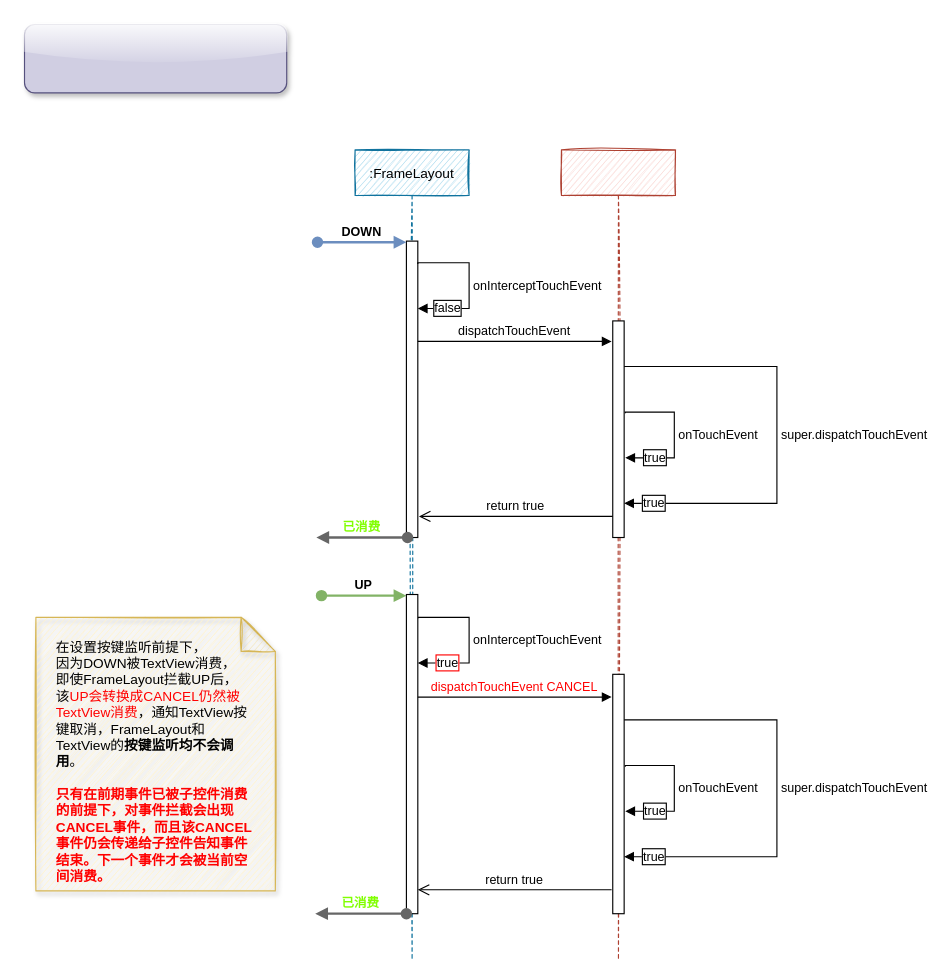
The diagram is 947 pixels wide and 979 high, and some of its shapes have lost their labels. The centre of each missing label's shape, as x and y in pixels:
:TextView: the point at 617,554
设按键监听 拦截 FrameLayout UP事件: the point at 156,60
